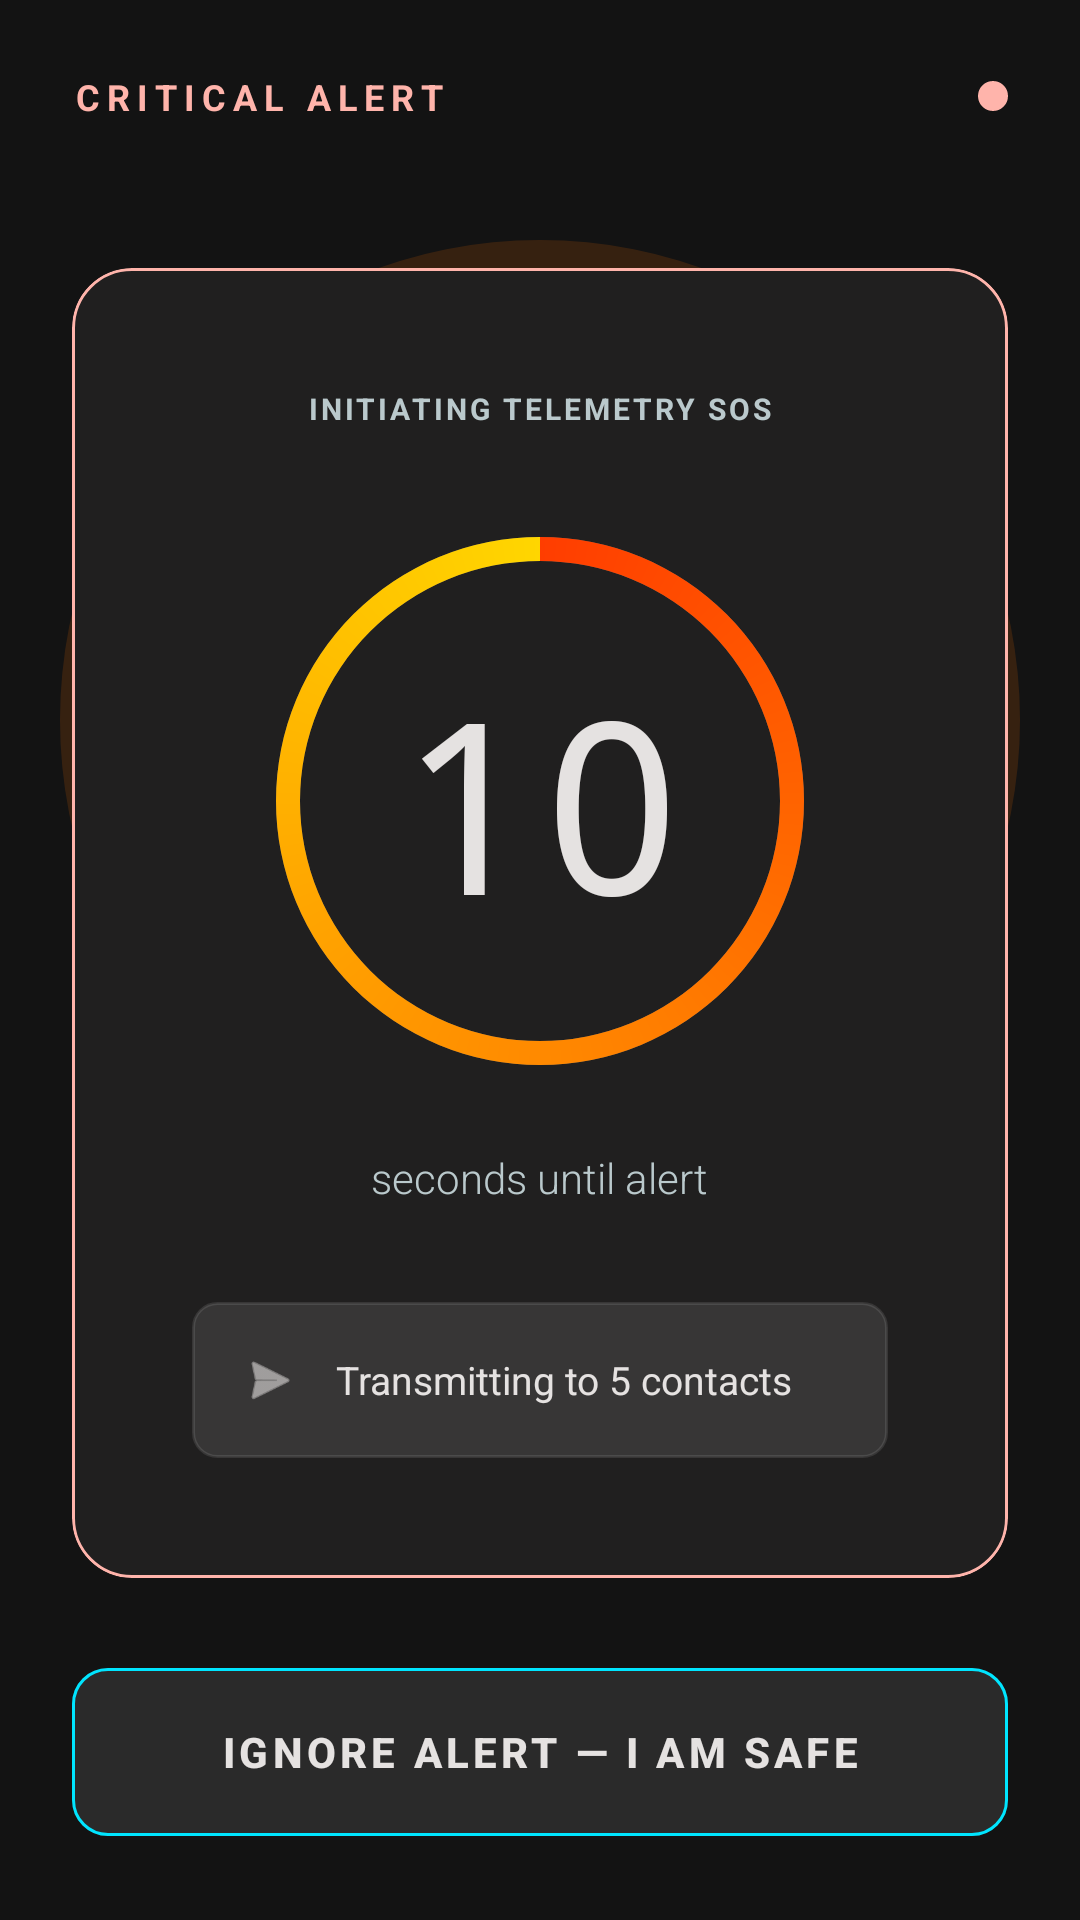

Icons on this 1080×1920 Android screen, each with its box as (x1, y1, x2, y2):
send: (251, 1361, 290, 1399)
